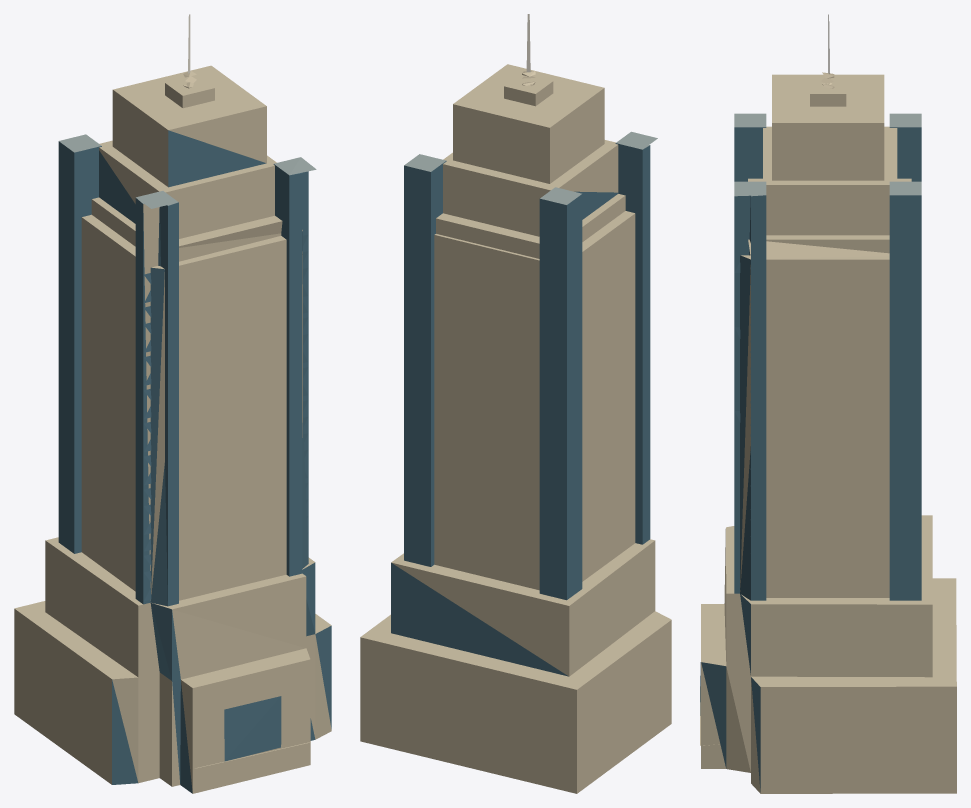
File: rembrandt-tower.lod2.glb
3 renders of one model, left to right at view 1: azimuth 30°, elevation 25°; view 2: azimuth 150°, elevation 25°; view 3: azimuth 270°, elevation 25°, orthographic. The views are drawn at different scales.
Visible parts, largest first — view 1: lod2; view 2: lod2; view 3: lod2.
Part boxes in pixels (<box>): lod2: <box>14,14,331,793</box>; lod2: <box>360,14,671,793</box>; lod2: <box>700,14,956,793</box>.
Size of the model in its own units: 48.17 by 150 by 48.01.
